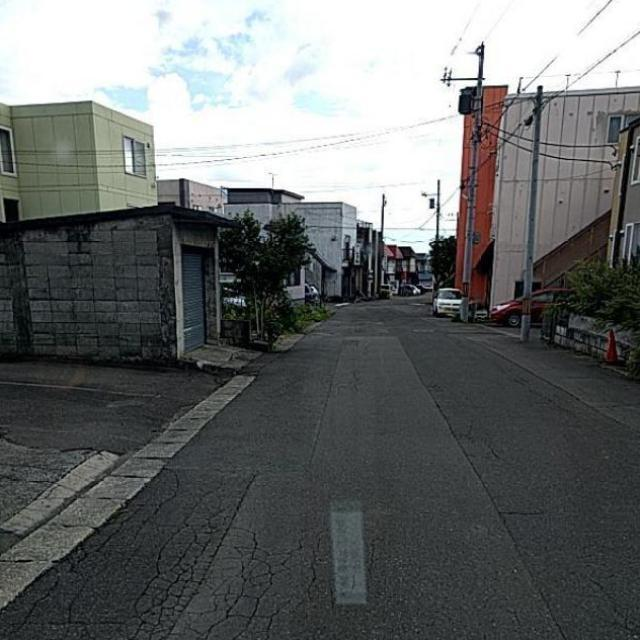Retak Buaya: (117, 517, 317, 640)
Sambungan: (402, 334, 640, 639)
